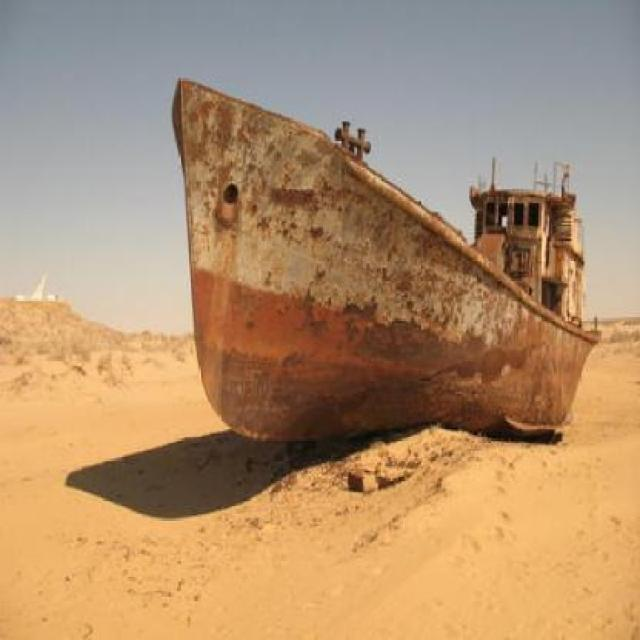corrosion: (174, 72, 601, 440)
